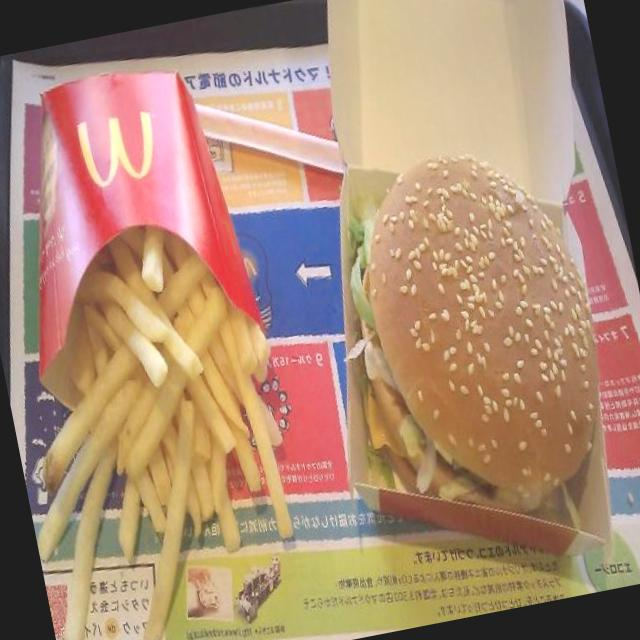French Fries: (0, 198, 326, 640)
Hamburger: (302, 116, 634, 526)
